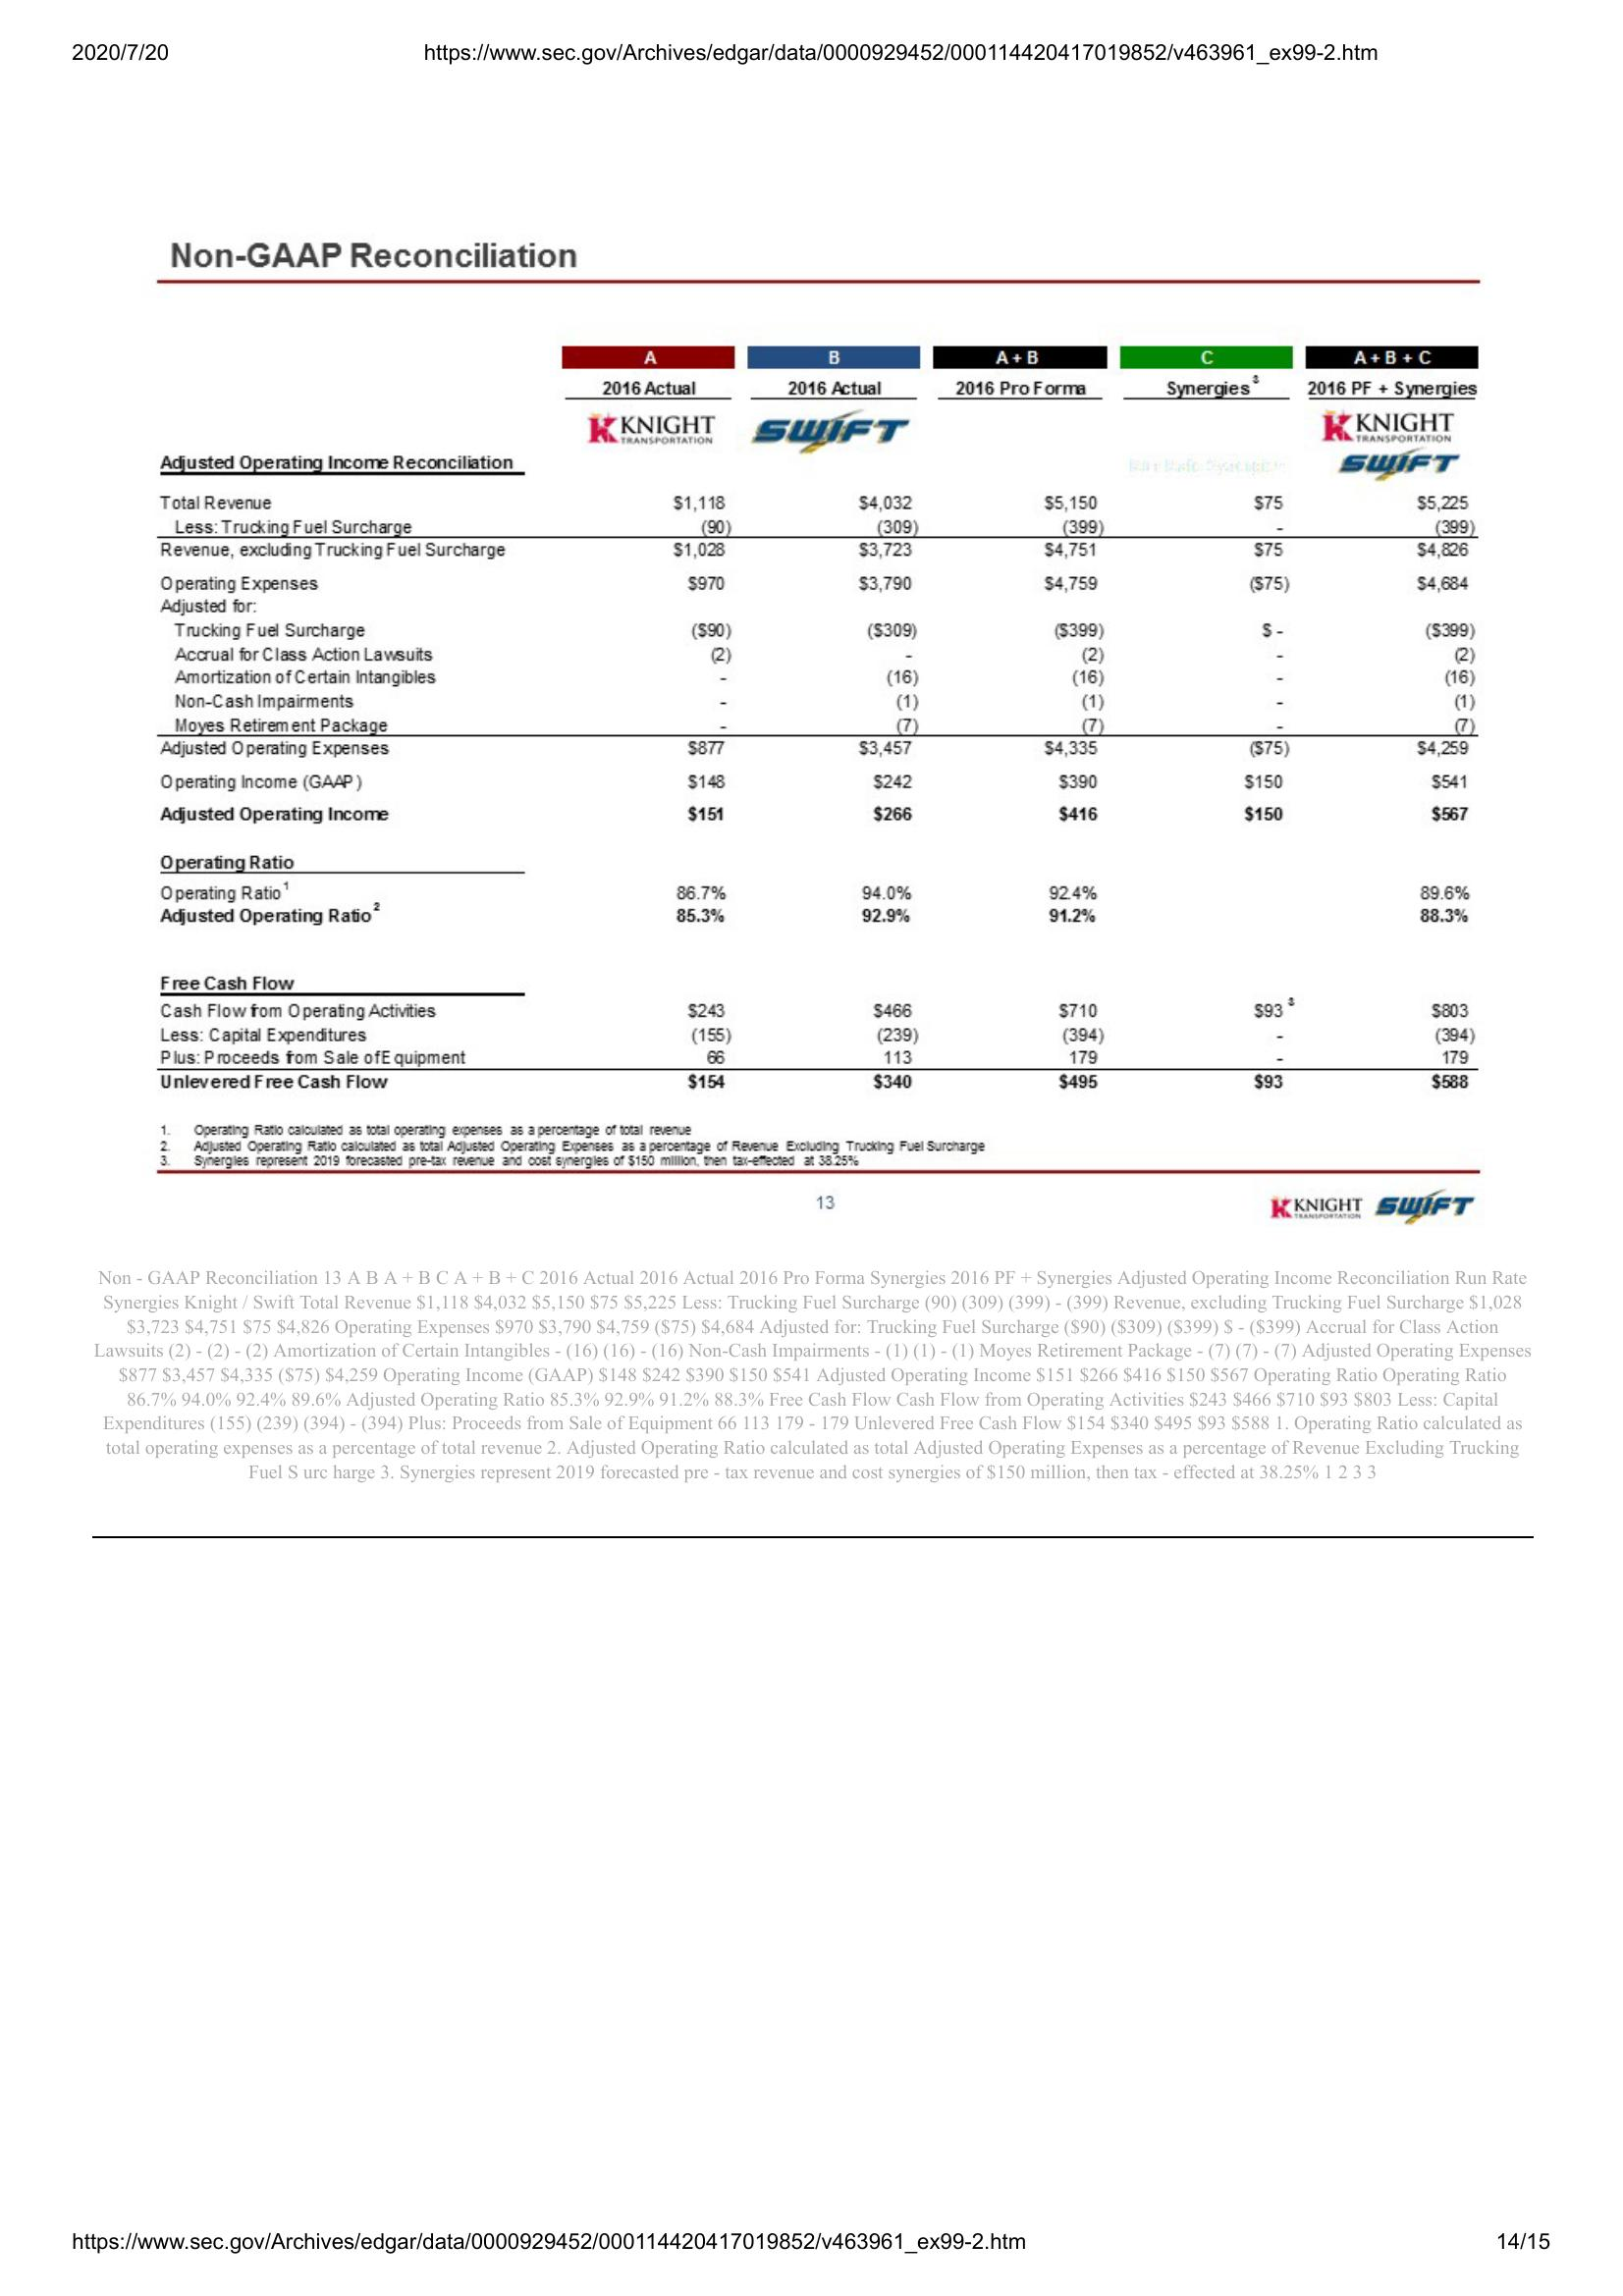table: (148, 335, 1490, 1101)
